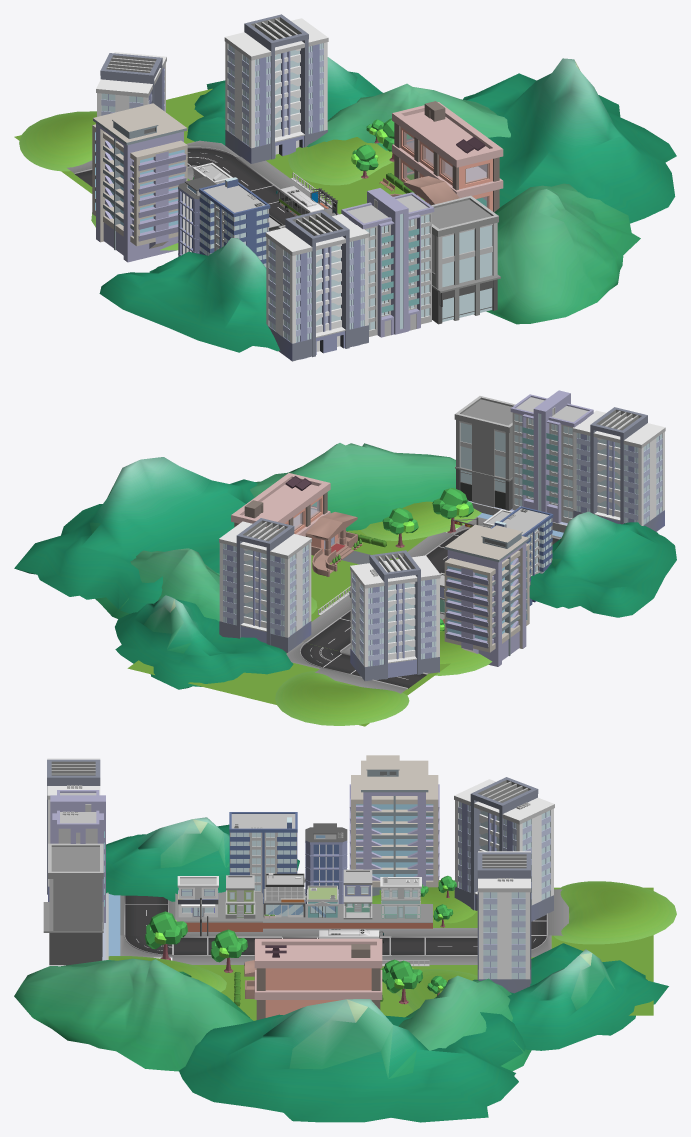
File: townhouse.glb
The picture shows the model from 3 angles, top to bottom: view 1: azimuth 30°, elevation 25°; view 2: azimuth 150°, elevation 25°; view 3: azimuth 270°, elevation 25°; orthographic projection. The views are drawn at different scales.
Visible parts, largest first — view 1: SM_mountain_012, SM_mountain_009, SM_home_high, SM_home_high.001, SM_home_high_008.034, SM_mountain_012.001, SM_home_high_006, main_.021, SM_home_hotel_005, SM_mountain_10, SM_home_high_003, SM_home_high.002 (+11 smaller); view 2: SM_mountain_012, SM_home_high.001, SM_home_high.002, SM_mountain_012.001, SM_home_high_008.034, SM_home_high, SM_mountain_012.002, SM_mountain_009, SM_home_high_006, SM_home_hotel_005, main_.021, SM_ground_4.001 (+14 smaller); view 3: SM_mountain_012, SM_mountain_009, SM_mountain_012.002, SM_home_high_008.034, SM_home_high.002, main_.021, SM_mountain_012.001, SM_home_high.001, SM_home_hotel_005, SM_ground_4.001, SM_mountain_10, SM_home_high_003 (+29 smaller).
Boxes of the visible parts, x1,y1,x2,y2 form: SM_mountain_012: (463, 58, 676, 223); SM_mountain_009: (486, 183, 640, 324); SM_home_high: (265, 210, 369, 361); SM_home_high.001: (224, 14, 328, 163); SM_home_high_008.034: (92, 103, 187, 262); SM_mountain_012.001: (99, 238, 280, 352); SM_home_high_006: (341, 188, 434, 337); main_.021: (390, 101, 503, 212); SM_home_hotel_005: (431, 195, 500, 324); SM_mountain_10: (307, 83, 510, 150); SM_home_high_003: (199, 177, 270, 267); SM_home_high.002: (96, 52, 166, 116); SM_mountain_012: (14, 457, 257, 613); SM_home_high.001: (219, 518, 311, 652); SM_home_high.002: (350, 550, 440, 681); SM_mountain_012.001: (529, 511, 676, 617); SM_home_high_008.034: (444, 524, 529, 666); SM_home_high: (572, 407, 665, 531); SM_mountain_012.002: (115, 595, 293, 689); SM_mountain_009: (250, 443, 455, 530); SM_home_high_006: (510, 390, 593, 523); SM_home_hotel_005: (454, 396, 515, 510); main_.021: (231, 473, 357, 576); SM_ground_4.001: (275, 671, 409, 725); SM_mountain_012: (179, 999, 525, 1122); SM_mountain_009: (14, 958, 253, 1071); SM_mountain_012.002: (507, 943, 668, 1050); SM_home_high_008.034: (349, 755, 439, 896); SM_home_high.002: (454, 777, 554, 921); main_.021: (244, 938, 382, 1019); SM_mountain_012.001: (106, 817, 299, 901); SM_home_high.001: (477, 851, 531, 993); SM_home_hotel_005: (43, 843, 103, 965); SM_ground_4.001: (554, 881, 676, 944); SM_mountain_10: (398, 975, 531, 1071); SM_home_high_003: (229, 812, 297, 903).
Size of the model in its own units: 116 by 29.22 by 113.
22 materials, 7 textured.
